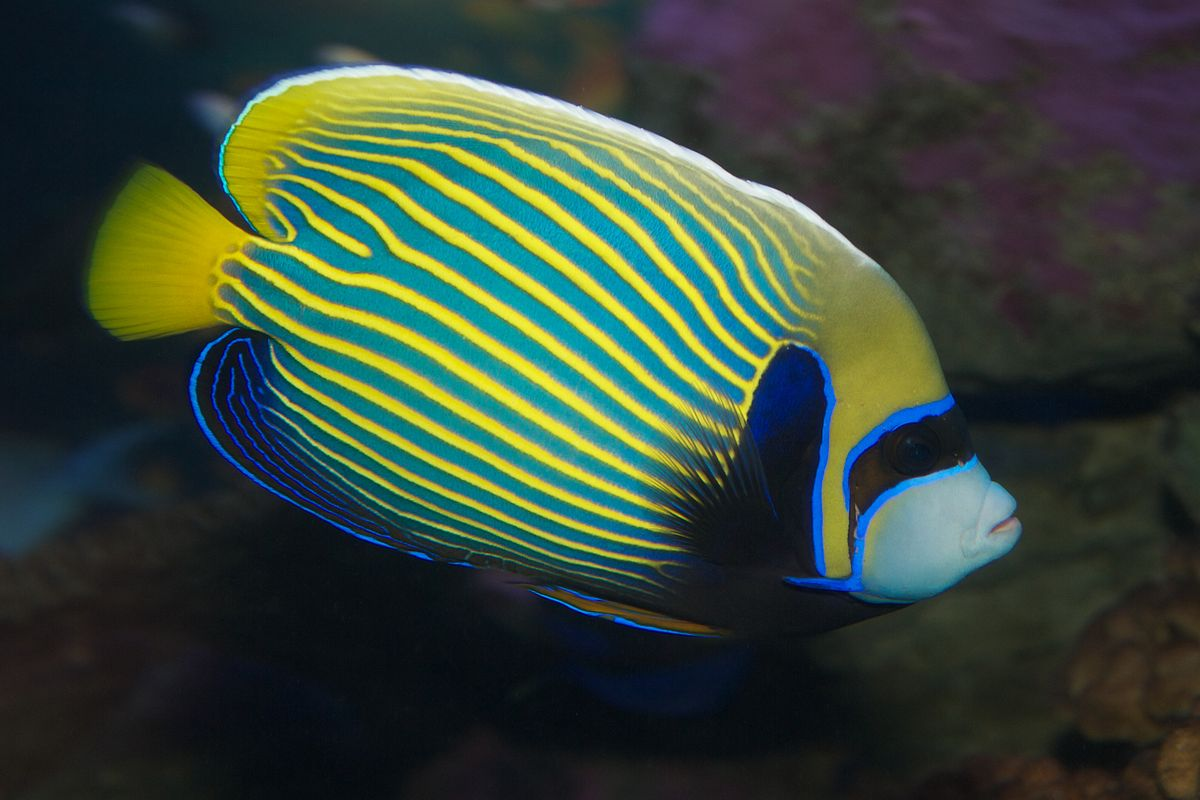Pomacanthus_imperator: (85, 35, 1059, 649)
